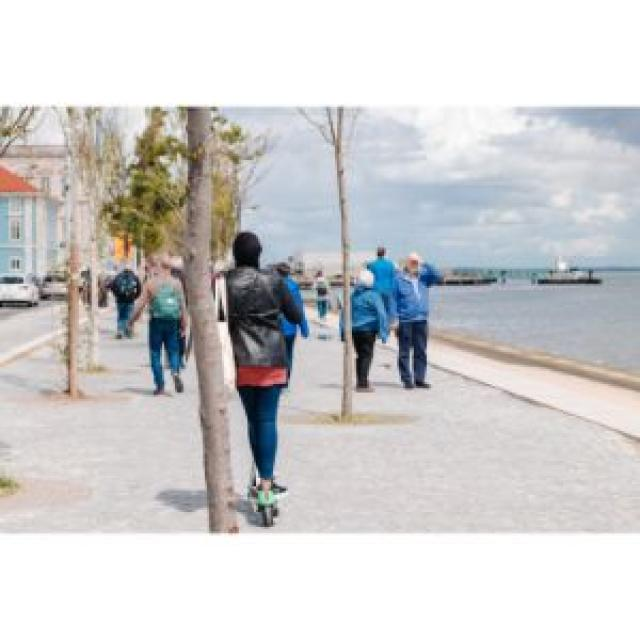nonfall: (212, 238, 320, 542), (135, 261, 198, 393), (390, 245, 442, 391), (340, 265, 396, 399), (97, 254, 144, 338)
